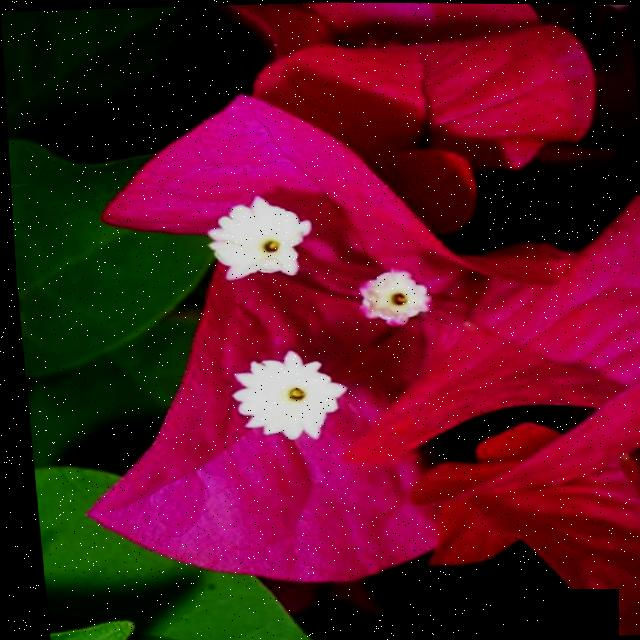bougainvillea: (4, 49, 640, 615)
